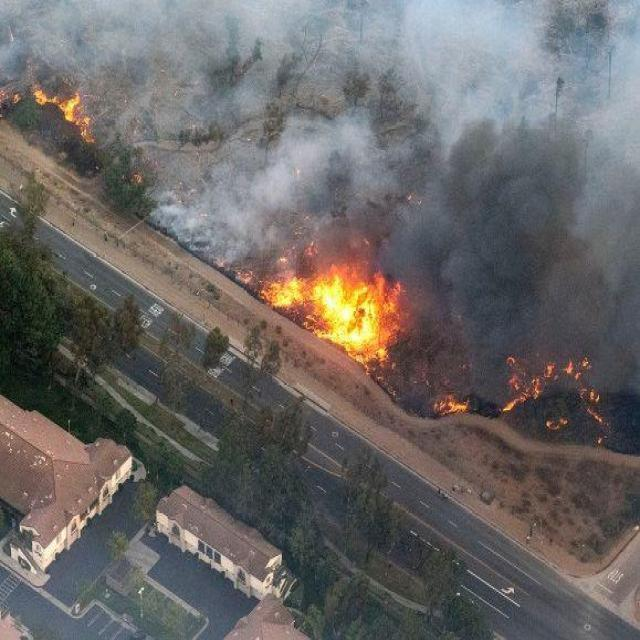Fire: (504, 333, 606, 446), (30, 68, 105, 165), (328, 264, 381, 369), (271, 236, 312, 325), (427, 367, 468, 429)
Smoke: (157, 0, 616, 281)
